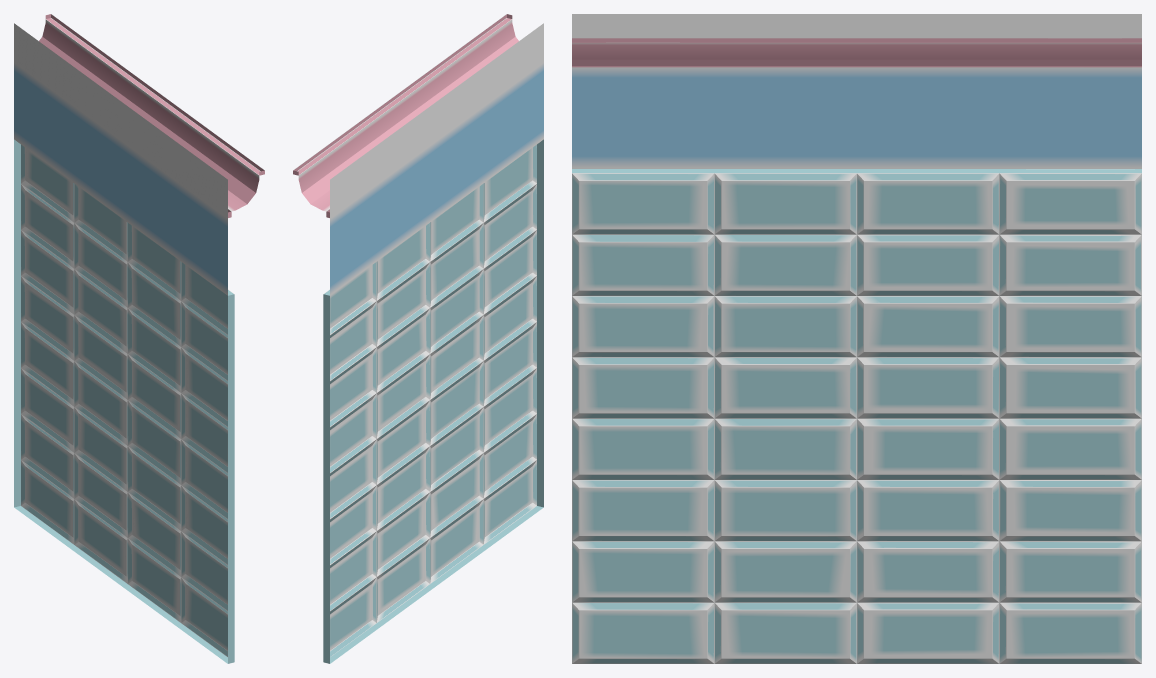
File: Mur3.fbx
3 renders of one model, left to right at view 1: azimuth 30°, elevation 25°; view 2: azimuth 150°, elevation 25°; view 3: azimuth 270°, elevation 25°, orthographic. The views are drawn at different scales.
Visible parts, largest first — view 1: Mur3; view 2: Mur3; view 3: Mur3.
Boxes of the visible parts, x1,y1,x2,y2 form: Mur3: (14,14,264,663); Mur3: (293,14,543,663); Mur3: (572,14,1141,663).
Size of the model in its own units: 20 by 200 by 250.
